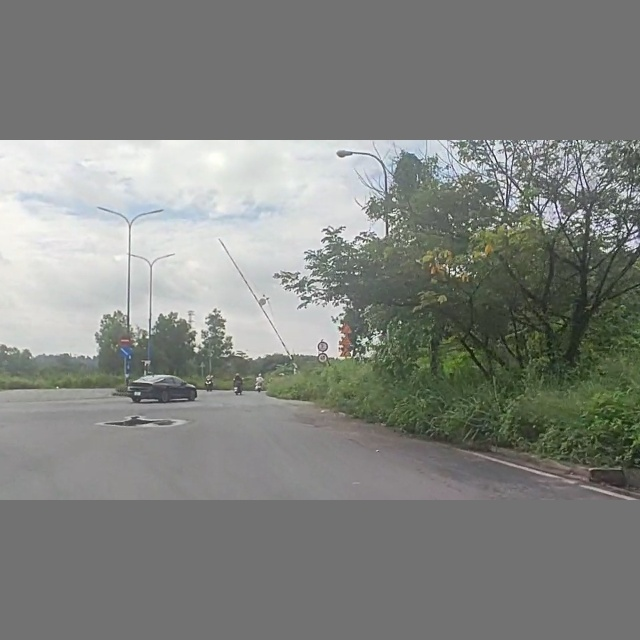P.102: (119, 335, 131, 347)
P.127*40: (316, 351, 331, 363)
R.302a: (117, 345, 134, 359)
W.201b: (338, 347, 356, 358)
